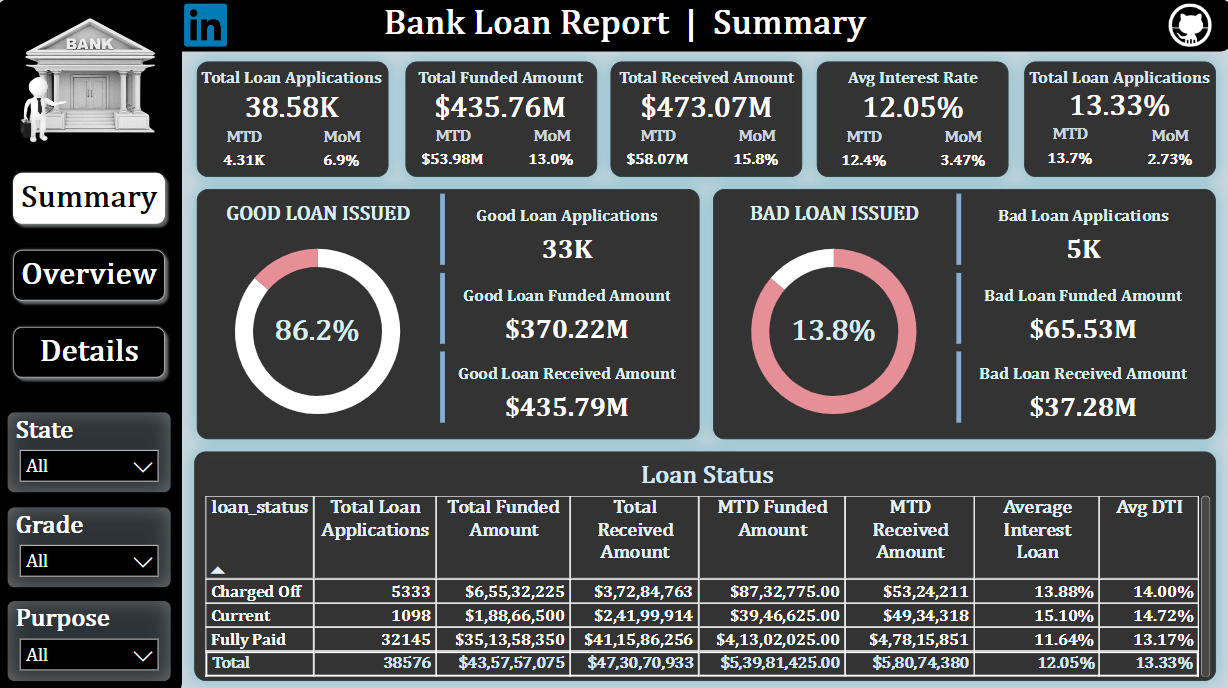

The page's visual inventory and layout, read from the dashboard file:
{"tool":"powerbi","page":{"name":"Summary","canvas":[1280,720],"ordinal":0},"visuals":[{"type":"shape","box":[0,0,1280.5,54.9],"z":0,"group":"g8"},{"type":"textbox","box":[375.2,0,551.3,55.5],"z":0},{"type":"shape","box":[206.2,197.5,522.2,260],"z":0,"group":"g6"},{"type":"shape","box":[742.5,197.5,522.2,260],"z":0,"group":"g7"},{"type":"shape","box":[0,41.2,191.2,680],"z":1000,"group":"g8"},{"type":"group","id":"g1","title":"Group 3","box":[203.8,65,201.8,121.3],"z":1000},{"type":"donutChart","title":"GOOD LOAN ISSUED","fields":{"Y":["All Measures.Total Loan Applications"],"Category":["financial_loan.Good Vs Bad Loan (groups)"],"Series":["financial_loan.Good Vs Bad Loan"]},"box":[208.7,211.3,246.2,246.2],"z":1000,"group":"g6"},{"type":"donutChart","title":"BAD LOAN ISSUED","fields":{"Y":["All Measures.Total Loan Applications"],"Category":["financial_loan.Good Vs Bad Loan (groups)"],"Series":["financial_loan.Good Vs Bad Loan"]},"box":[745,211.3,246.2,246.2],"z":1000,"group":"g7"},{"type":"shape","box":[206.2,65,199.3,119.8],"z":2000,"group":"g1"},{"type":"card","title":"Avg Interest Rate","fields":{"Values":["All Measures.Good Loan %"]},"box":[232.3,311.3,197.7,62.5],"z":2000,"group":"g6"},{"type":"card","title":"Avg Interest Rate","fields":{"Values":["All Measures.Bad Loan %"]},"box":[768.6,311.3,197.7,62.5],"z":2000,"group":"g7"},{"type":"shape","box":[203.8,470,1061.2,238.8],"z":2000},{"type":"group","id":"g2","title":"Group 4","box":[420.3,65,201.8,120.3],"z":3000},{"type":"shape","box":[422.5,65,199.3,119.8],"z":3000,"group":"g2"},{"type":"cardVisual","fields":{"Data":["All Measures.Good Loan Applications","All Measures.Good Loan Funded Amount","All Measures.Good Loan Received Amount"]},"box":[454.9,197.5,273.6,250],"z":3000,"group":"g6"},{"type":"cardVisual","fields":{"Data":["All Measures.Bad Loan Applications","All Measures.Bad Loan Funded Amount","All Measures.Bad Loan Received Amount"]},"box":[991.2,197.5,273.6,250],"z":3000,"group":"g7"},{"type":"group","id":"g3","title":"Group 5","box":[636.8,65,199.3,120.1],"z":4000},{"type":"shape","box":[636.8,65,199.3,119.8],"z":4000,"group":"g3"},{"type":"group","id":"g4","title":"Group 6","box":[850.8,65,199.6,120.1],"z":5000},{"type":"shape","box":[851.1,65,199.3,119.8],"z":5000,"group":"g4"},{"type":"group","id":"g5","title":"Group 7","box":[1065,65,200,120],"z":6000},{"type":"shape","box":[1065.7,65,199.3,119.8],"z":6000,"group":"g5"},{"type":"card","title":"Total Loan Applications","fields":{"Values":["All Measures.Total Loan Applications"]},"box":[203.8,69.7,201.8,62.7],"z":7000,"group":"g9"},{"type":"group","id":"g6","title":"Group 8","box":[206.2,197.5,522.5,260],"z":7000},{"type":"card","title":"Total Funded Amount","fields":{"Values":["All Measures.Total Funded Amount"]},"box":[420.3,70,201.8,62.7],"z":8000,"group":"g2"},{"type":"group","id":"g7","title":"Group 8","box":[742.5,197.5,522.5,260],"z":8000},{"type":"card","title":"Total Received Amount","fields":{"Values":["All Measures.Total Received Amount"]},"box":[636.8,69.7,199.3,62.7],"z":9000,"group":"g3"},{"type":"tableEx","title":"Loan Status","fields":{"Values":["financial_loan.loan_status","All Measures.Total Loan Applications","All Measures.Total Funded Amount","All Measures.Total Received Amount","All Measures.MTD Funded Amount","All Measures.MTD Received Amount","All Measures.Average Interest Loan","All Measures.Avg DTI(Depth To Income Ratio)"]},"box":[209,479,1055.1,230.2],"z":9000},{"type":"card","title":"Avg Interest Rate","fields":{"Values":["All Measures.Average Interest Loan"]},"box":[850.8,69.7,199.3,62.7],"z":10000,"group":"g4"},{"type":"slicer","title":"State","fields":{"Values":["financial_loan.address_state"]},"box":[10,428,171.7,84.6],"z":10000},{"type":"card","title":"Total Loan Applications","fields":{"Values":["All Measures.Avg DTI(Depth To Income Ratio)"]},"box":[1065,70,200,57.5],"z":11000,"group":"g5"},{"type":"slicer","title":"Grade","fields":{"Values":["financial_loan.grade"]},"box":[10,527.5,171.7,84.6],"z":11000},{"type":"card","title":"MTD","fields":{"Values":["All Measures.MTD Loan Applications"]},"box":[206.1,133.6,97.2,52.7],"z":12000,"group":"g9"},{"type":"slicer","title":"Purpose","fields":{"Values":["financial_loan.purpose"]},"box":[10,624.6,171.7,84.6],"z":12000},{"type":"group","id":"g8","title":"Group 9","box":[0,0,1280.5,721.2],"z":13000},{"type":"card","title":"MTD","fields":{"Values":["All Measures.MTD Funded Amount"]},"box":[422.8,132.7,97.2,52.7],"z":13000,"group":"g2"},{"type":"pageNavigator","box":[9.7,173.8,171.3,228.1],"z":13002,"group":"g8"},{"type":"image","box":[0,8.4,190.6,152],"z":14000},{"type":"card","title":"MTD","fields":{"Values":["All Measures.MTD Received Amount"]},"box":[636.8,132.4,97.2,52.7],"z":14000,"group":"g3"},{"type":"image","box":[1195.6,0,84.5,54.3],"z":15000},{"type":"card","title":"MTD","fields":{"Values":["All Measures.MTD Avg Int Rate"]},"box":[850.8,133.7,97.2,51.4],"z":15000,"group":"g4"},{"type":"image","box":[181,0,76,54.3],"z":16000},{"type":"card","title":"MTD","fields":{"Values":["All Measures.MTD Avg DTI"]},"box":[1065,130,97.5,55],"z":16000,"group":"g5"},{"type":"textbox","box":[375,0,551.4,55.6],"z":16001},{"type":"slicer","title":"State","fields":{"Values":["financial_loan.address_state"]},"box":[9.7,428.3,171.3,84.5],"z":16002},{"type":"slicer","title":"Grade","fields":{"Values":["financial_loan.grade"]},"box":[9.7,527.2,171.3,84.5],"z":16003},{"type":"slicer","title":"Purpose","fields":{"Values":["financial_loan.Good Vs Bad Loan"]},"box":[9.7,624.9,171.3,84.5],"z":16004},{"type":"card","title":"MoM","fields":{"Values":["All Measures.MoM Applications"]},"box":[308.2,133.6,97.2,51.4],"z":17000,"group":"g9"},{"type":"card","title":"MoM","fields":{"Values":["All Measures.MoM Funded Amount"]},"box":[524.9,132.7,97.2,52.7],"z":18000,"group":"g2"},{"type":"card","title":"MoM","fields":{"Values":["All Measures.MoM Received Amount"]},"box":[738.9,132.4,97.2,52.7],"z":19000,"group":"g3"},{"type":"card","title":"MoM","fields":{"Values":["All Measures.MoM Avg Int Rate"]},"box":[952.9,133.7,97.2,51.4],"z":20000,"group":"g4"},{"type":"card","title":"MoM","fields":{"Values":["All Measures.MoM Avg DTL"]},"box":[1168.8,132.5,96.2,52.5],"z":21000,"group":"g5"},{"type":"group","id":"g9","title":"Group 2","box":[203.8,69.7,201.8,116.6],"z":21001,"group":"g1"}]}

Visuals, with their boxes in screenshot pixels (x1, y1, x2, y2), scaled from the page's 1280x720 canvas onto the 1228x688 screenshot:
shape: l=0, t=0, r=1227, b=52
textbox: l=360, t=0, r=889, b=53
shape: l=198, t=189, r=699, b=437
shape: l=712, t=189, r=1213, b=437
shape: l=0, t=39, r=183, b=687
"Group 3" group: l=196, t=62, r=389, b=178
"GOOD LOAN ISSUED" donutChart: l=200, t=202, r=436, b=437
"BAD LOAN ISSUED" donutChart: l=715, t=202, r=951, b=437
shape: l=198, t=62, r=389, b=177
"Avg Interest Rate" card: l=223, t=297, r=413, b=357
"Avg Interest Rate" card: l=737, t=297, r=927, b=357
shape: l=196, t=449, r=1214, b=677
"Group 4" group: l=403, t=62, r=597, b=177
shape: l=405, t=62, r=597, b=177
cardVisual - All Measures.Good Loan Applications x All Measures.Good Loan Funded Amount: l=436, t=189, r=699, b=428
cardVisual - All Measures.Bad Loan Applications x All Measures.Bad Loan Funded Amount: l=951, t=189, r=1213, b=428
"Group 5" group: l=611, t=62, r=802, b=177
shape: l=611, t=62, r=802, b=177
"Group 6" group: l=816, t=62, r=1008, b=177
shape: l=817, t=62, r=1008, b=177
"Group 7" group: l=1022, t=62, r=1214, b=177
shape: l=1022, t=62, r=1214, b=177
"Total Loan Applications" card: l=196, t=67, r=389, b=127
"Group 8" group: l=198, t=189, r=699, b=437
"Total Funded Amount" card: l=403, t=67, r=597, b=127
"Group 8" group: l=712, t=189, r=1214, b=437
"Total Received Amount" card: l=611, t=67, r=802, b=127
"Loan Status" tableEx: l=201, t=458, r=1213, b=678
"Avg Interest Rate" card: l=816, t=67, r=1007, b=127
"State" slicer: l=10, t=409, r=174, b=490
"Total Loan Applications" card: l=1022, t=67, r=1214, b=122
"Grade" slicer: l=10, t=504, r=174, b=585
"MTD" card: l=198, t=128, r=291, b=178
"Purpose" slicer: l=10, t=597, r=174, b=678
"Group 9" group: l=0, t=0, r=1227, b=687
"MTD" card: l=406, t=127, r=499, b=177
pageNavigator: l=9, t=166, r=174, b=384
image: l=0, t=8, r=183, b=153
"MTD" card: l=611, t=127, r=704, b=177
image: l=1147, t=0, r=1227, b=52
"MTD" card: l=816, t=128, r=909, b=177
image: l=174, t=0, r=247, b=52
"MTD" card: l=1022, t=124, r=1115, b=177
textbox: l=360, t=0, r=889, b=53
"State" slicer: l=9, t=409, r=174, b=490
"Grade" slicer: l=9, t=504, r=174, b=585
"Purpose" slicer: l=9, t=597, r=174, b=678
"MoM" card: l=296, t=128, r=389, b=177
"MoM" card: l=504, t=127, r=597, b=177
"MoM" card: l=709, t=127, r=802, b=177
"MoM" card: l=914, t=128, r=1007, b=177
"MoM" card: l=1121, t=127, r=1214, b=177
"Group 2" group: l=196, t=67, r=389, b=178
